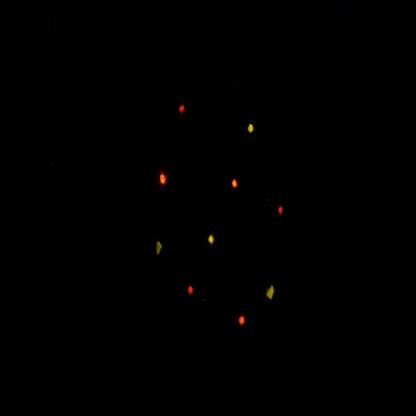PE: (202, 228, 223, 253), (243, 114, 260, 143)
PET: (272, 192, 289, 234), (175, 95, 194, 125), (184, 275, 200, 303)
PP: (262, 275, 283, 308), (151, 230, 167, 269)
PVC: (155, 161, 171, 198), (225, 173, 243, 200), (235, 309, 249, 333)
